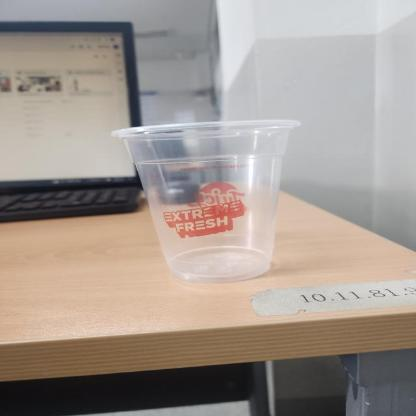Plastic Cup: (110, 118, 304, 282)
